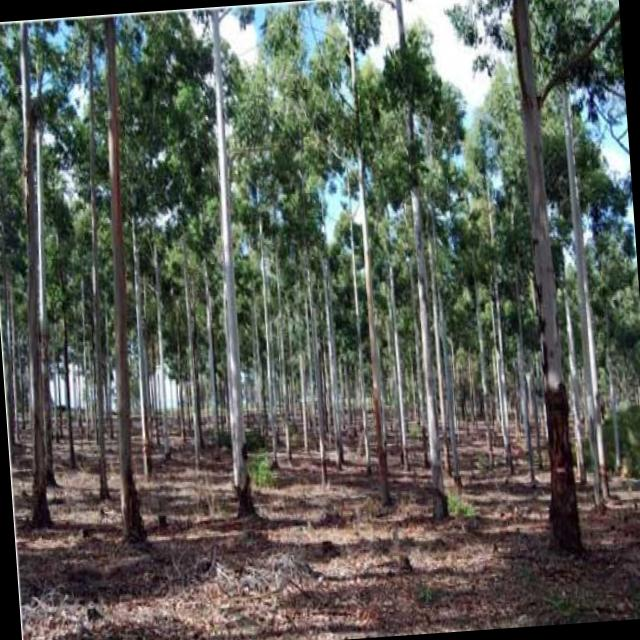Medicinal-Sandalwood: (464, 0, 640, 557), (290, 0, 456, 504), (177, 2, 309, 548), (84, 11, 194, 544), (0, 17, 100, 536)
